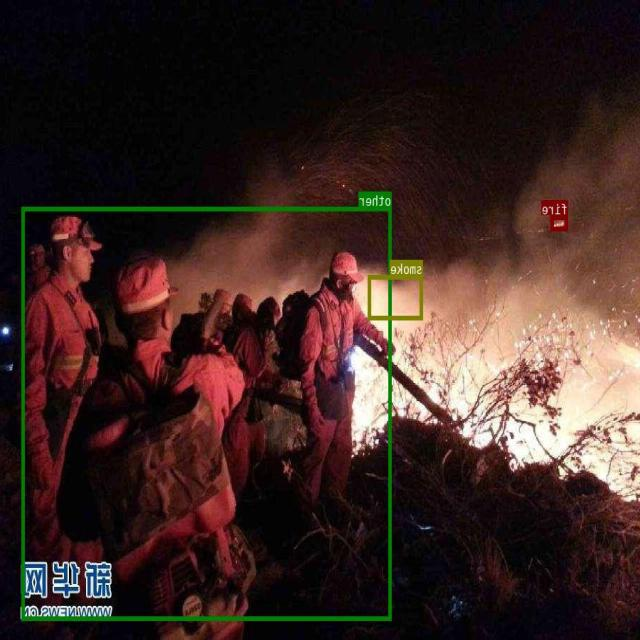fire: (551, 215, 568, 229)
other: (22, 206, 392, 620)
smoke: (369, 274, 423, 320)
